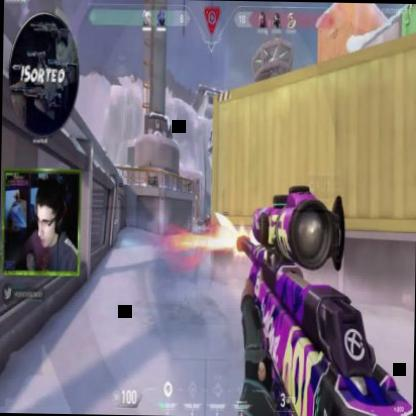enemy: (206, 214, 210, 226)
enemy_head: (206, 213, 209, 216)
